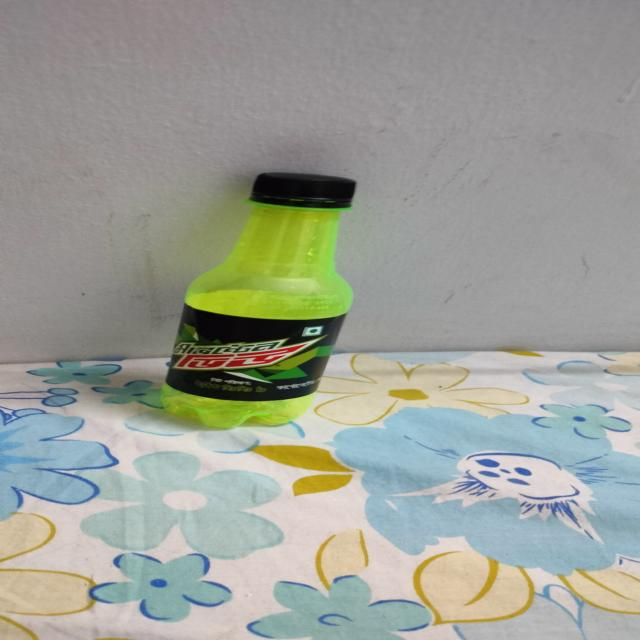Bottle: (162, 171, 353, 426)
